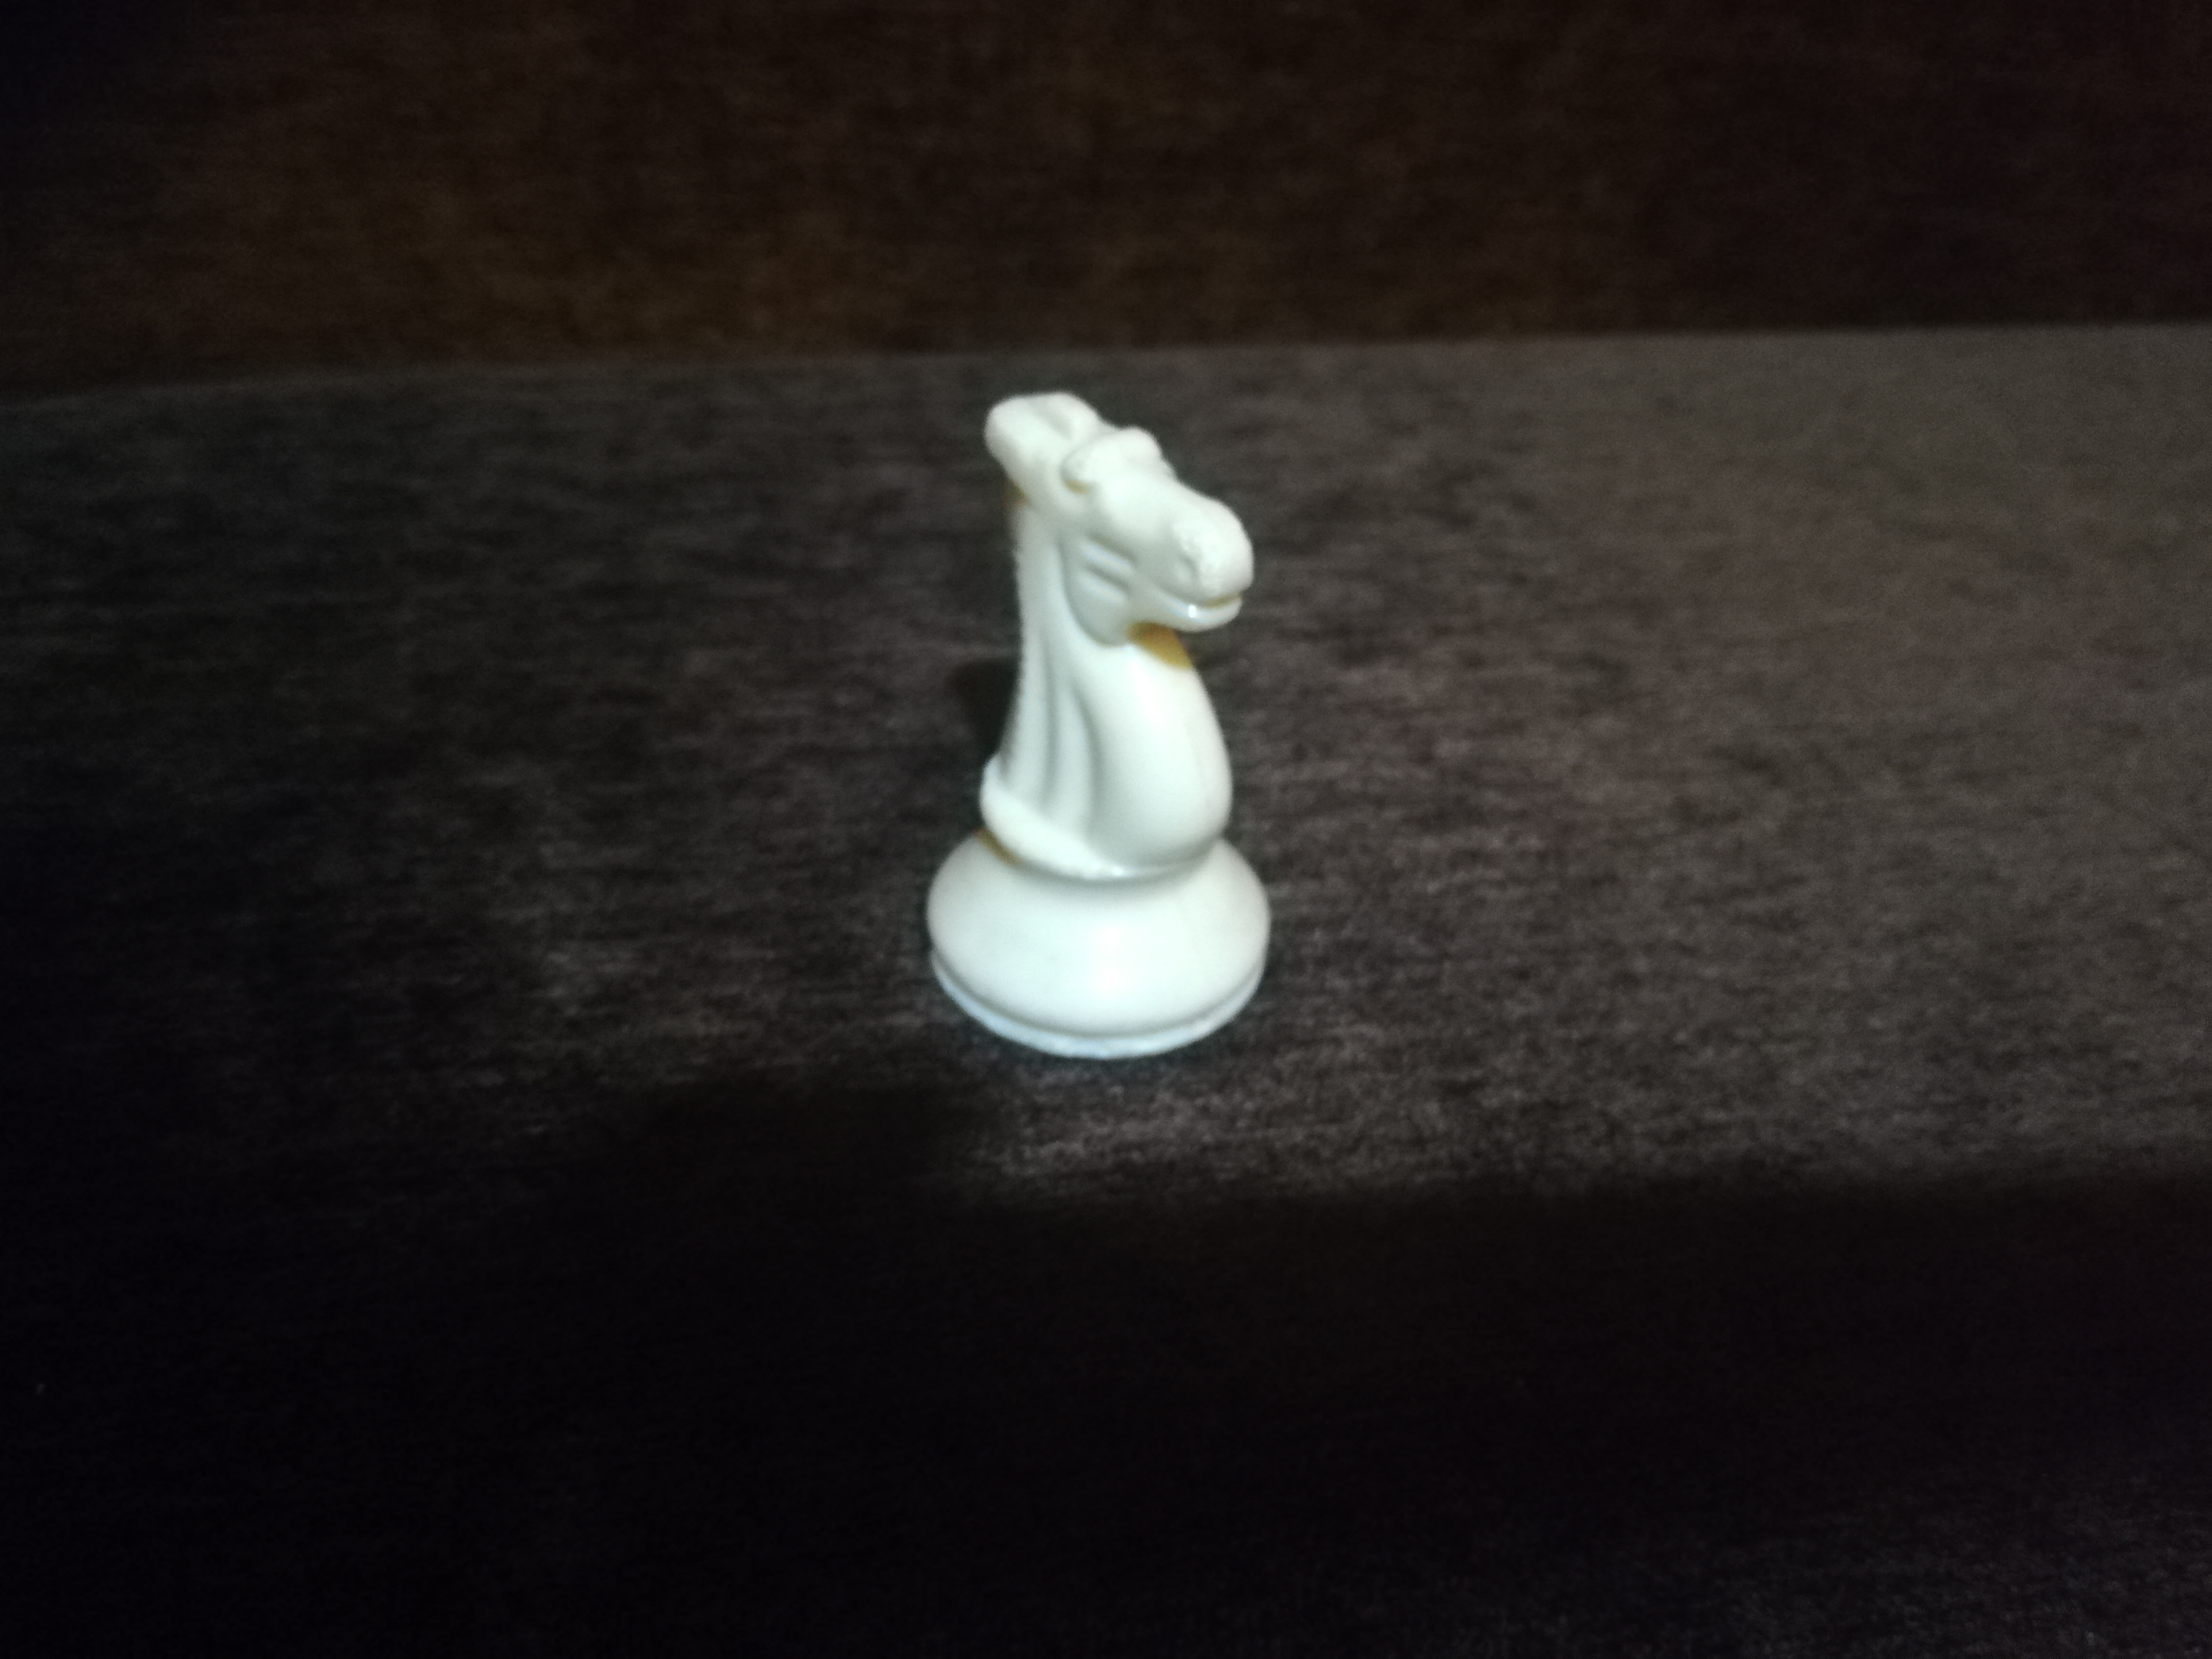Knight: (907, 383, 1295, 1064)
